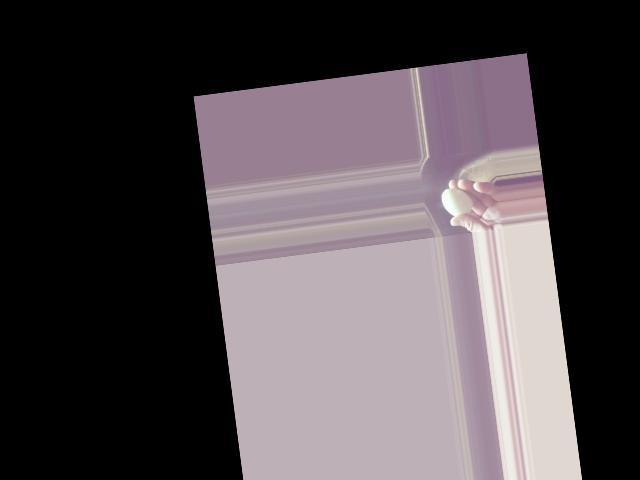egg: (440, 186, 473, 218)
